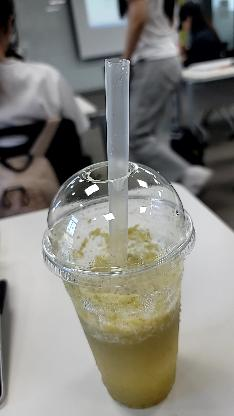Plastic Cup: (41, 158, 198, 410), (42, 160, 201, 284), (102, 58, 134, 264)
